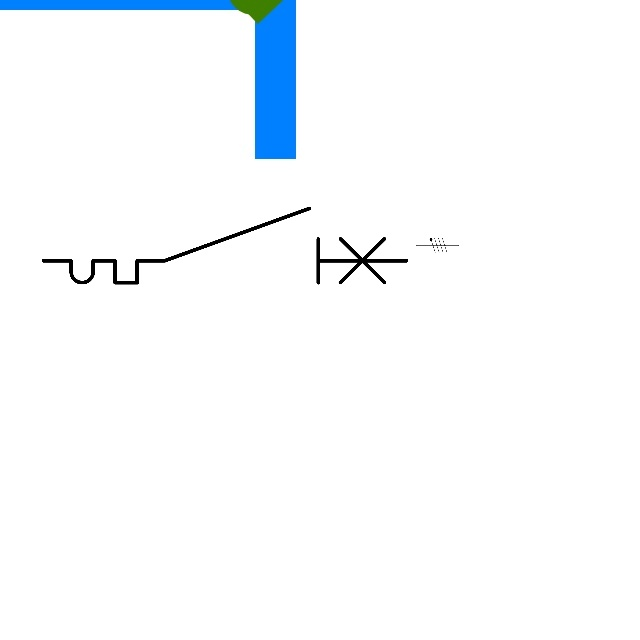interruptor_termomagnetico: (34, 199, 415, 292)
